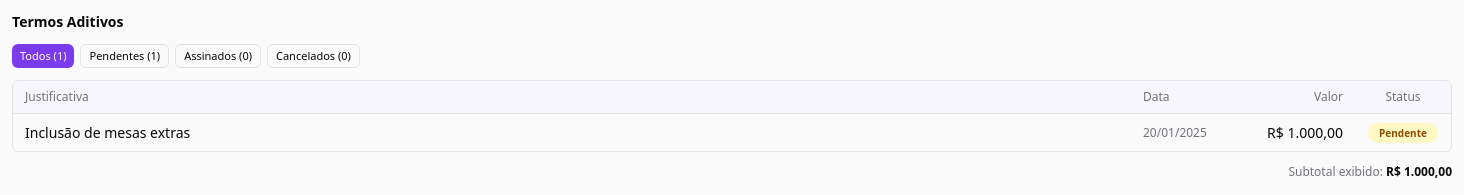
ContractAddendumList › exibe mensagem vazia do filtro quando nenhum aditivo tem o status
The image size is (1464, 195).
Click the button "Cancelados (0)". click: (313, 56)
box: [267,44,360,68]
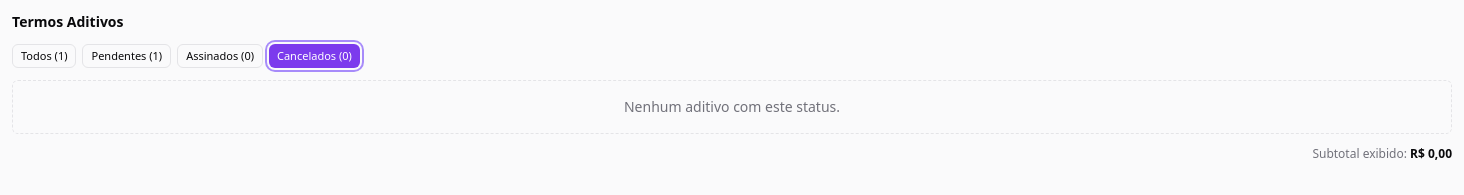
Expected: the text "Nenhum aditivo com este status." is shown, [12,80,1452,134]
